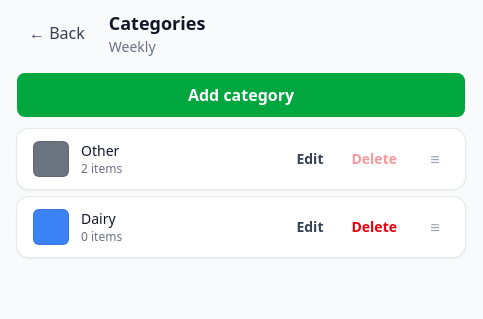
Test: CategoriesPage (docs/TASKS.md → T19) › shows an error and keeps the row when the delete fails (409)
What coordinates should you click on to do the following:
click the button with aria-label "Delete Dairy"
I would click on:
 (374, 227)
Its box is [340, 205, 409, 249].
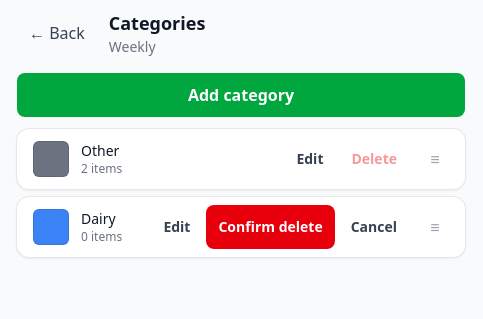
What coordinates should you click on to do the following:
click the button with aria-label "Confirm delete Dairy"
I would click on:
 (271, 227)
Its box is [206, 205, 335, 249].
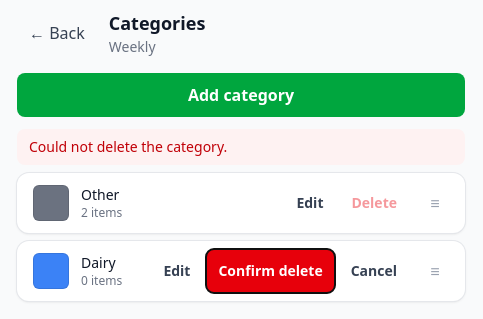
Expected: the list item with test id "category-row-c2" is shown, [17, 241, 465, 301]
Expected: the message "Could not delete the category." is shown, [17, 129, 465, 165]
